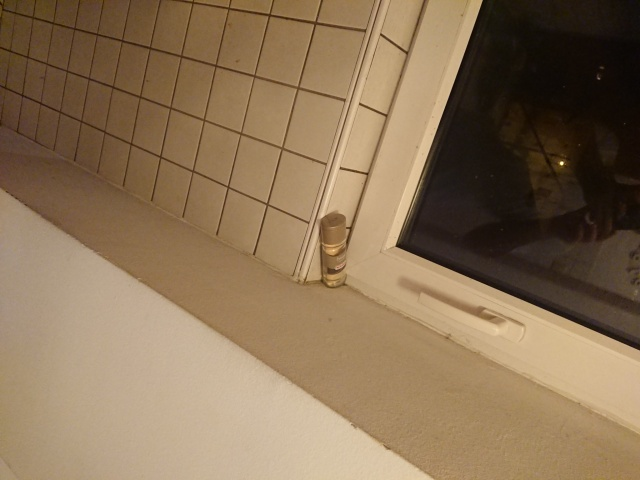Kotanyi Garlic Granules 70g: (317, 210, 349, 290)
